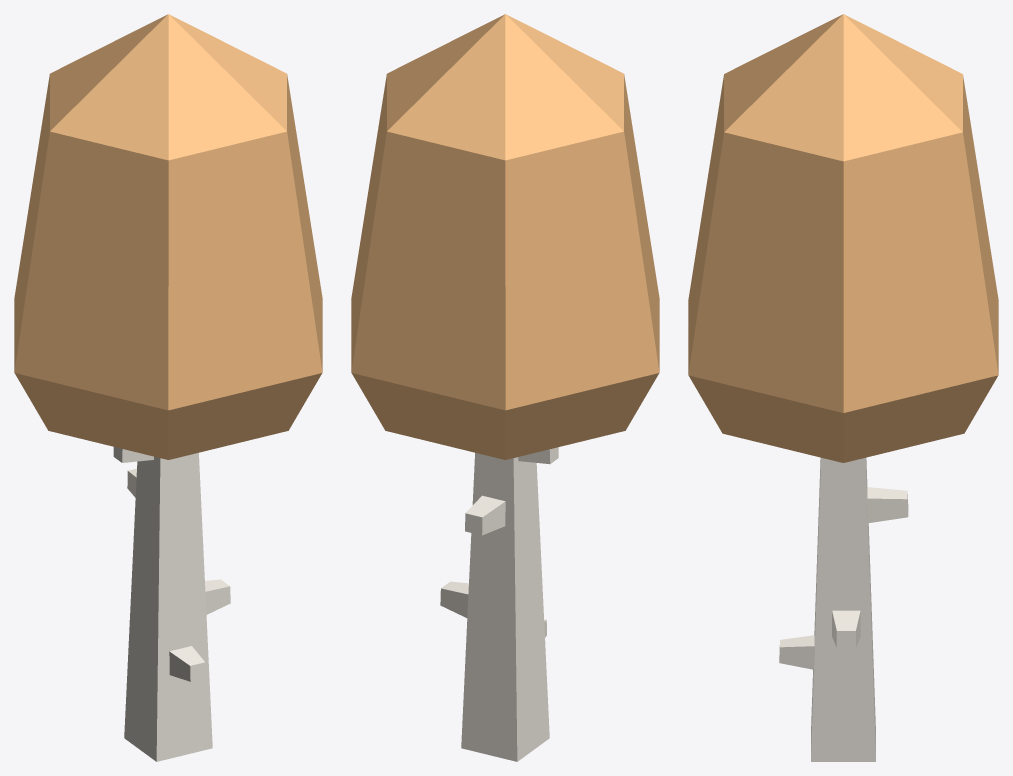
The model's file is tree_default_fall.glb.
3 views of the same model, side by side, from view 1: azimuth 30°, elevation 25°; view 2: azimuth 150°, elevation 25°; view 3: azimuth 270°, elevation 25° (orthographic).
Parts seen in each view (by area): view 1: tree_default_fall; view 2: tree_default_fall; view 3: tree_default_fall.
Part boxes in pixels (x1=…): tree_default_fall: x1=14, y1=14, x2=322, y2=761; tree_default_fall: x1=351, y1=14, x2=659, y2=761; tree_default_fall: x1=688, y1=14, x2=998, y2=761.
Size of the model in its own units: 0.755 by 1.71 by 0.6538.
